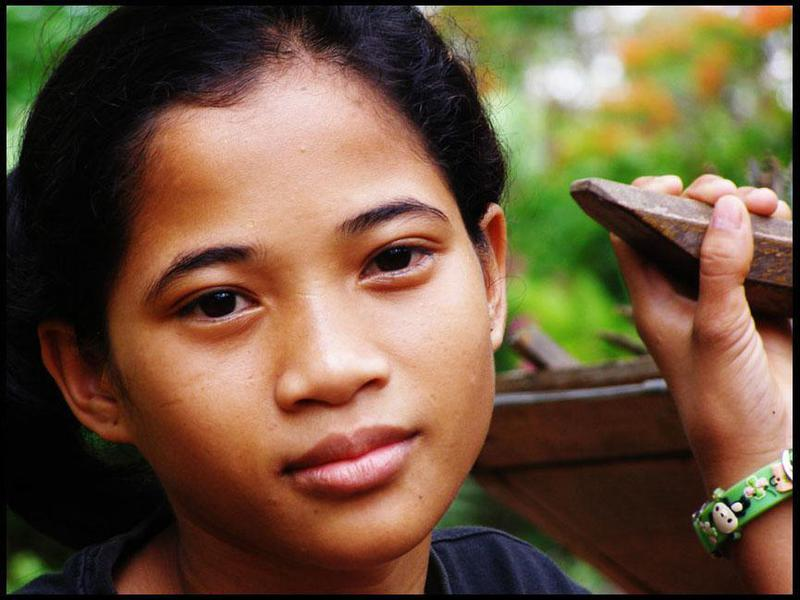person: (1, 1, 581, 592)
